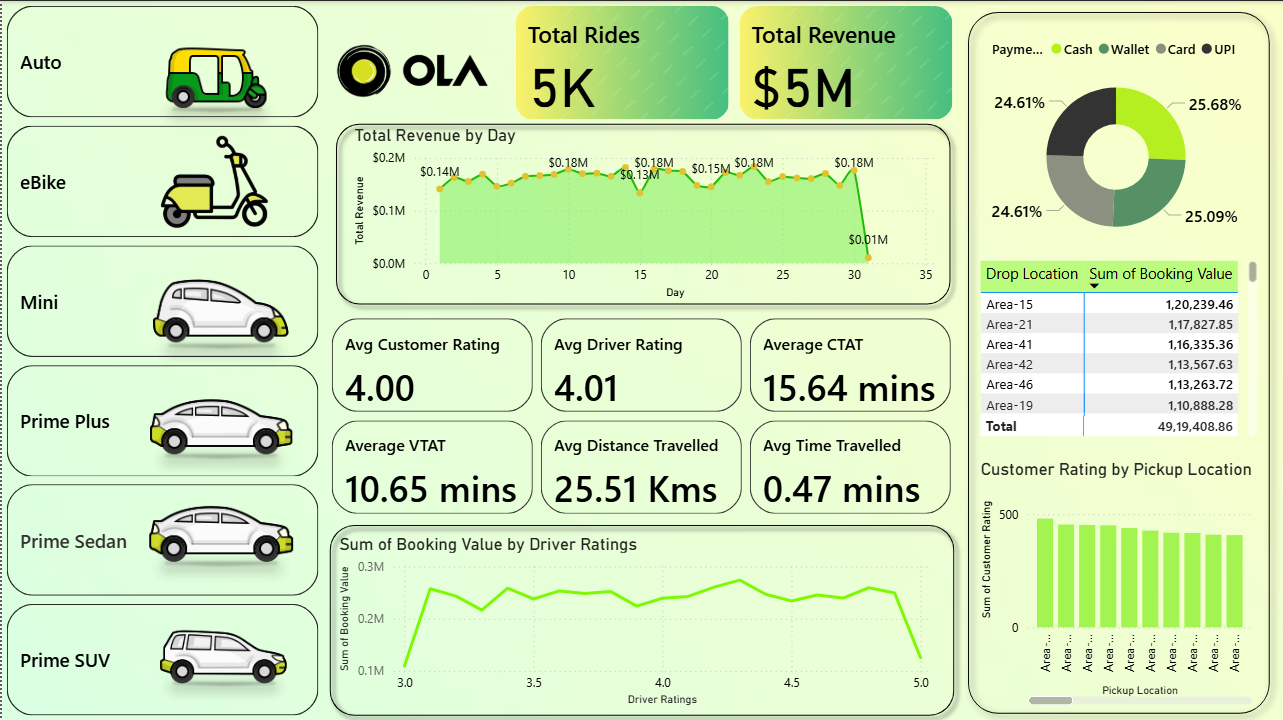

The page's visual inventory and layout, read from the dashboard file:
{"tool":"powerbi","page":{"name":"Page 1","canvas":[1280,720],"ordinal":0},"visuals":[{"type":"image","box":[298.6,0,220.2,139.3],"z":0},{"type":"advancedSlicerVisual","fields":{"Values":["Success_Ola_rides.Vehicle Type"]},"box":[0,0,320.9,720.3],"z":1000},{"type":"image","box":[110.7,0,207.7,153],"z":2000},{"type":"image","box":[92.1,233.9,253.8,154.3],"z":3000},{"type":"image","box":[128.1,345.8,180.4,151.8],"z":4000},{"type":"image","box":[128.1,451.6,180.4,153],"z":5000},{"type":"image","box":[110.7,580.9,220.2,139.3],"z":6000},{"type":"donutChart","fields":{"Y":["Success_Ola_rides.Payment Method"],"Category":["Success_Ola_rides.Payment Method"]},"box":[964.7,27.4,289.5,226.4],"z":7000},{"type":"image","box":[110.7,110.7,197.8,156.7],"z":8000},{"type":"lineChart","fields":{"Y":["Success_Ola_rides.Booking Value"],"Category":["Success_Ola_rides.Driver Ratings"]},"box":[330.9,529.9,598.3,176.6],"z":9000},{"type":"shape","box":[317.2,512.5,639.4,207.7],"z":10000},{"type":"shape","box":[950.4,0,322.2,720.3],"z":11000},{"type":"clusteredColumnChart","title":"Customer Rating by Pickup Location","fields":{"Y":["Success_Ola_rides.Customer Rating"],"Category":["Success_Ola_rides.Pickup Location"]},"box":[969,413,284.9,292.3],"z":12000},{"type":"pivotTable","title":" Booking by Drop Location","fields":{"Rows":["Success_Ola_rides.Drop Location"],"Values":["Success_Ola_rides.Booking Value"]},"box":[969,228.9,284.9,184.1],"z":13000},{"type":"cardVisual","fields":{"Data":["Success_Ola_rides.Total Rides"]},"box":[506.3,0,222.7,123.2],"z":14000},{"type":"cardVisual","fields":{"Data":["Success_Ola_rides.Total Revenue"]},"box":[729,0,222.7,123.2],"z":15000},{"type":"cardVisual","fields":{"Data":["Success_Ola_rides.Avg Customer Rating","Success_Ola_rides.Avg Driver Rating","Success_Ola_rides.Average CTAT","Success_Ola_rides.Average VTAT","Success_Ola_rides.Avg Distance Travelled","Success_Ola_rides.Avg Time Travelled"]},"box":[323.4,311,628.2,204],"z":16000},{"type":"shape","box":[323.4,113.2,629.4,197.8],"z":17000},{"type":"areaChart","fields":{"Category":["Success_Ola_rides.Date.Variation.Date Hierarchy.Day"],"Y":["Success_Ola_rides.Total Revenue"]},"box":[343.3,124.4,588.4,177.9],"z":18000}]}

Visuals, with their boxes in screenshot pixels (x1, y1, x2, y2), scaled from the page's 1280x720 canvas onto the 1283x720 screenshot:
image: 299, 0, 520, 139
advancedSlicerVisual - Success_Ola_rides.Vehicle Type: 0, 0, 322, 719
image: 111, 0, 319, 153
image: 92, 234, 347, 388
image: 128, 346, 309, 498
image: 128, 452, 309, 605
image: 111, 581, 332, 719
donutChart - Success_Ola_rides.Payment Method x Success_Ola_rides.Payment Method: 967, 27, 1257, 254
image: 111, 111, 309, 267
lineChart - Success_Ola_rides.Booking Value x Success_Ola_rides.Driver Ratings: 332, 530, 931, 706
shape: 318, 512, 959, 719
shape: 953, 0, 1276, 719
"Customer Rating by Pickup Location" clusteredColumnChart: 971, 413, 1257, 705
" Booking by Drop Location" pivotTable: 971, 229, 1257, 413
cardVisual - Success_Ola_rides.Total Rides: 507, 0, 731, 123
cardVisual - Success_Ola_rides.Total Revenue: 731, 0, 954, 123
cardVisual - Success_Ola_rides.Avg Customer Rating x Success_Ola_rides.Avg Driver Rating: 324, 311, 954, 515
shape: 324, 113, 955, 311
areaChart - Success_Ola_rides.Date.Variation.Date Hierarchy.Day x Success_Ola_rides.Total Revenue: 344, 124, 934, 302
